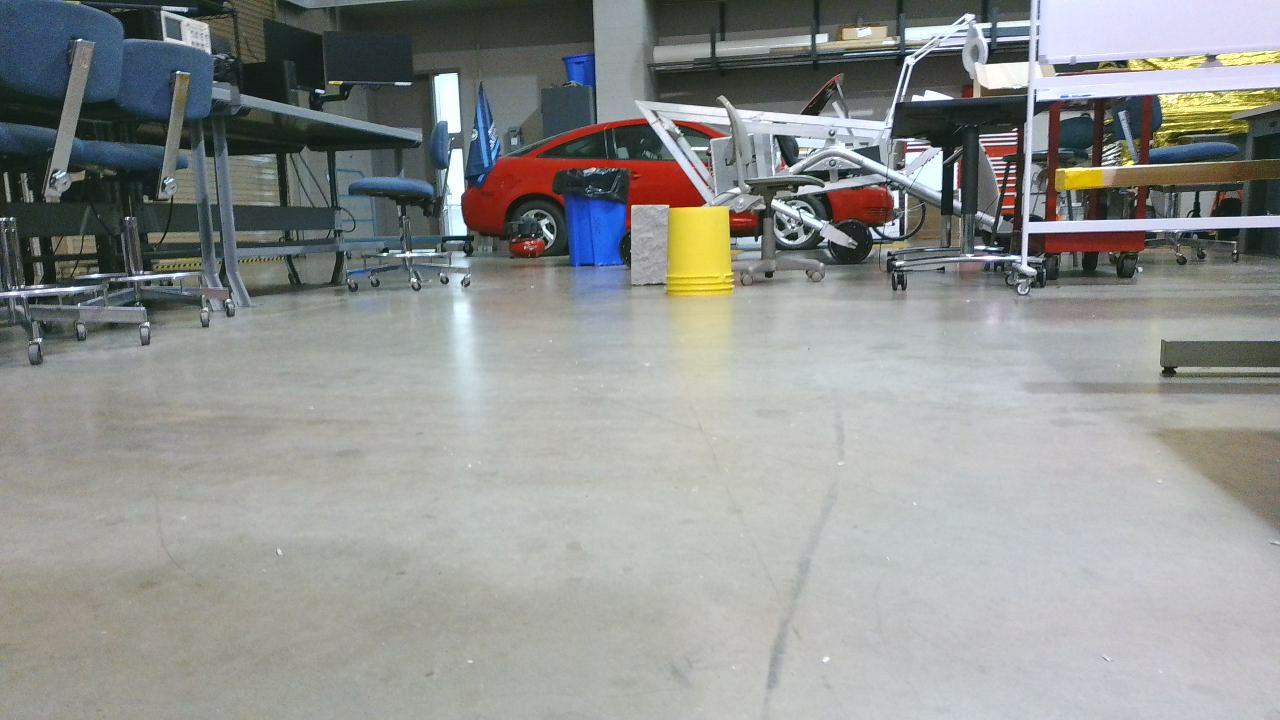yellow_bucket: (673, 211, 741, 302)
